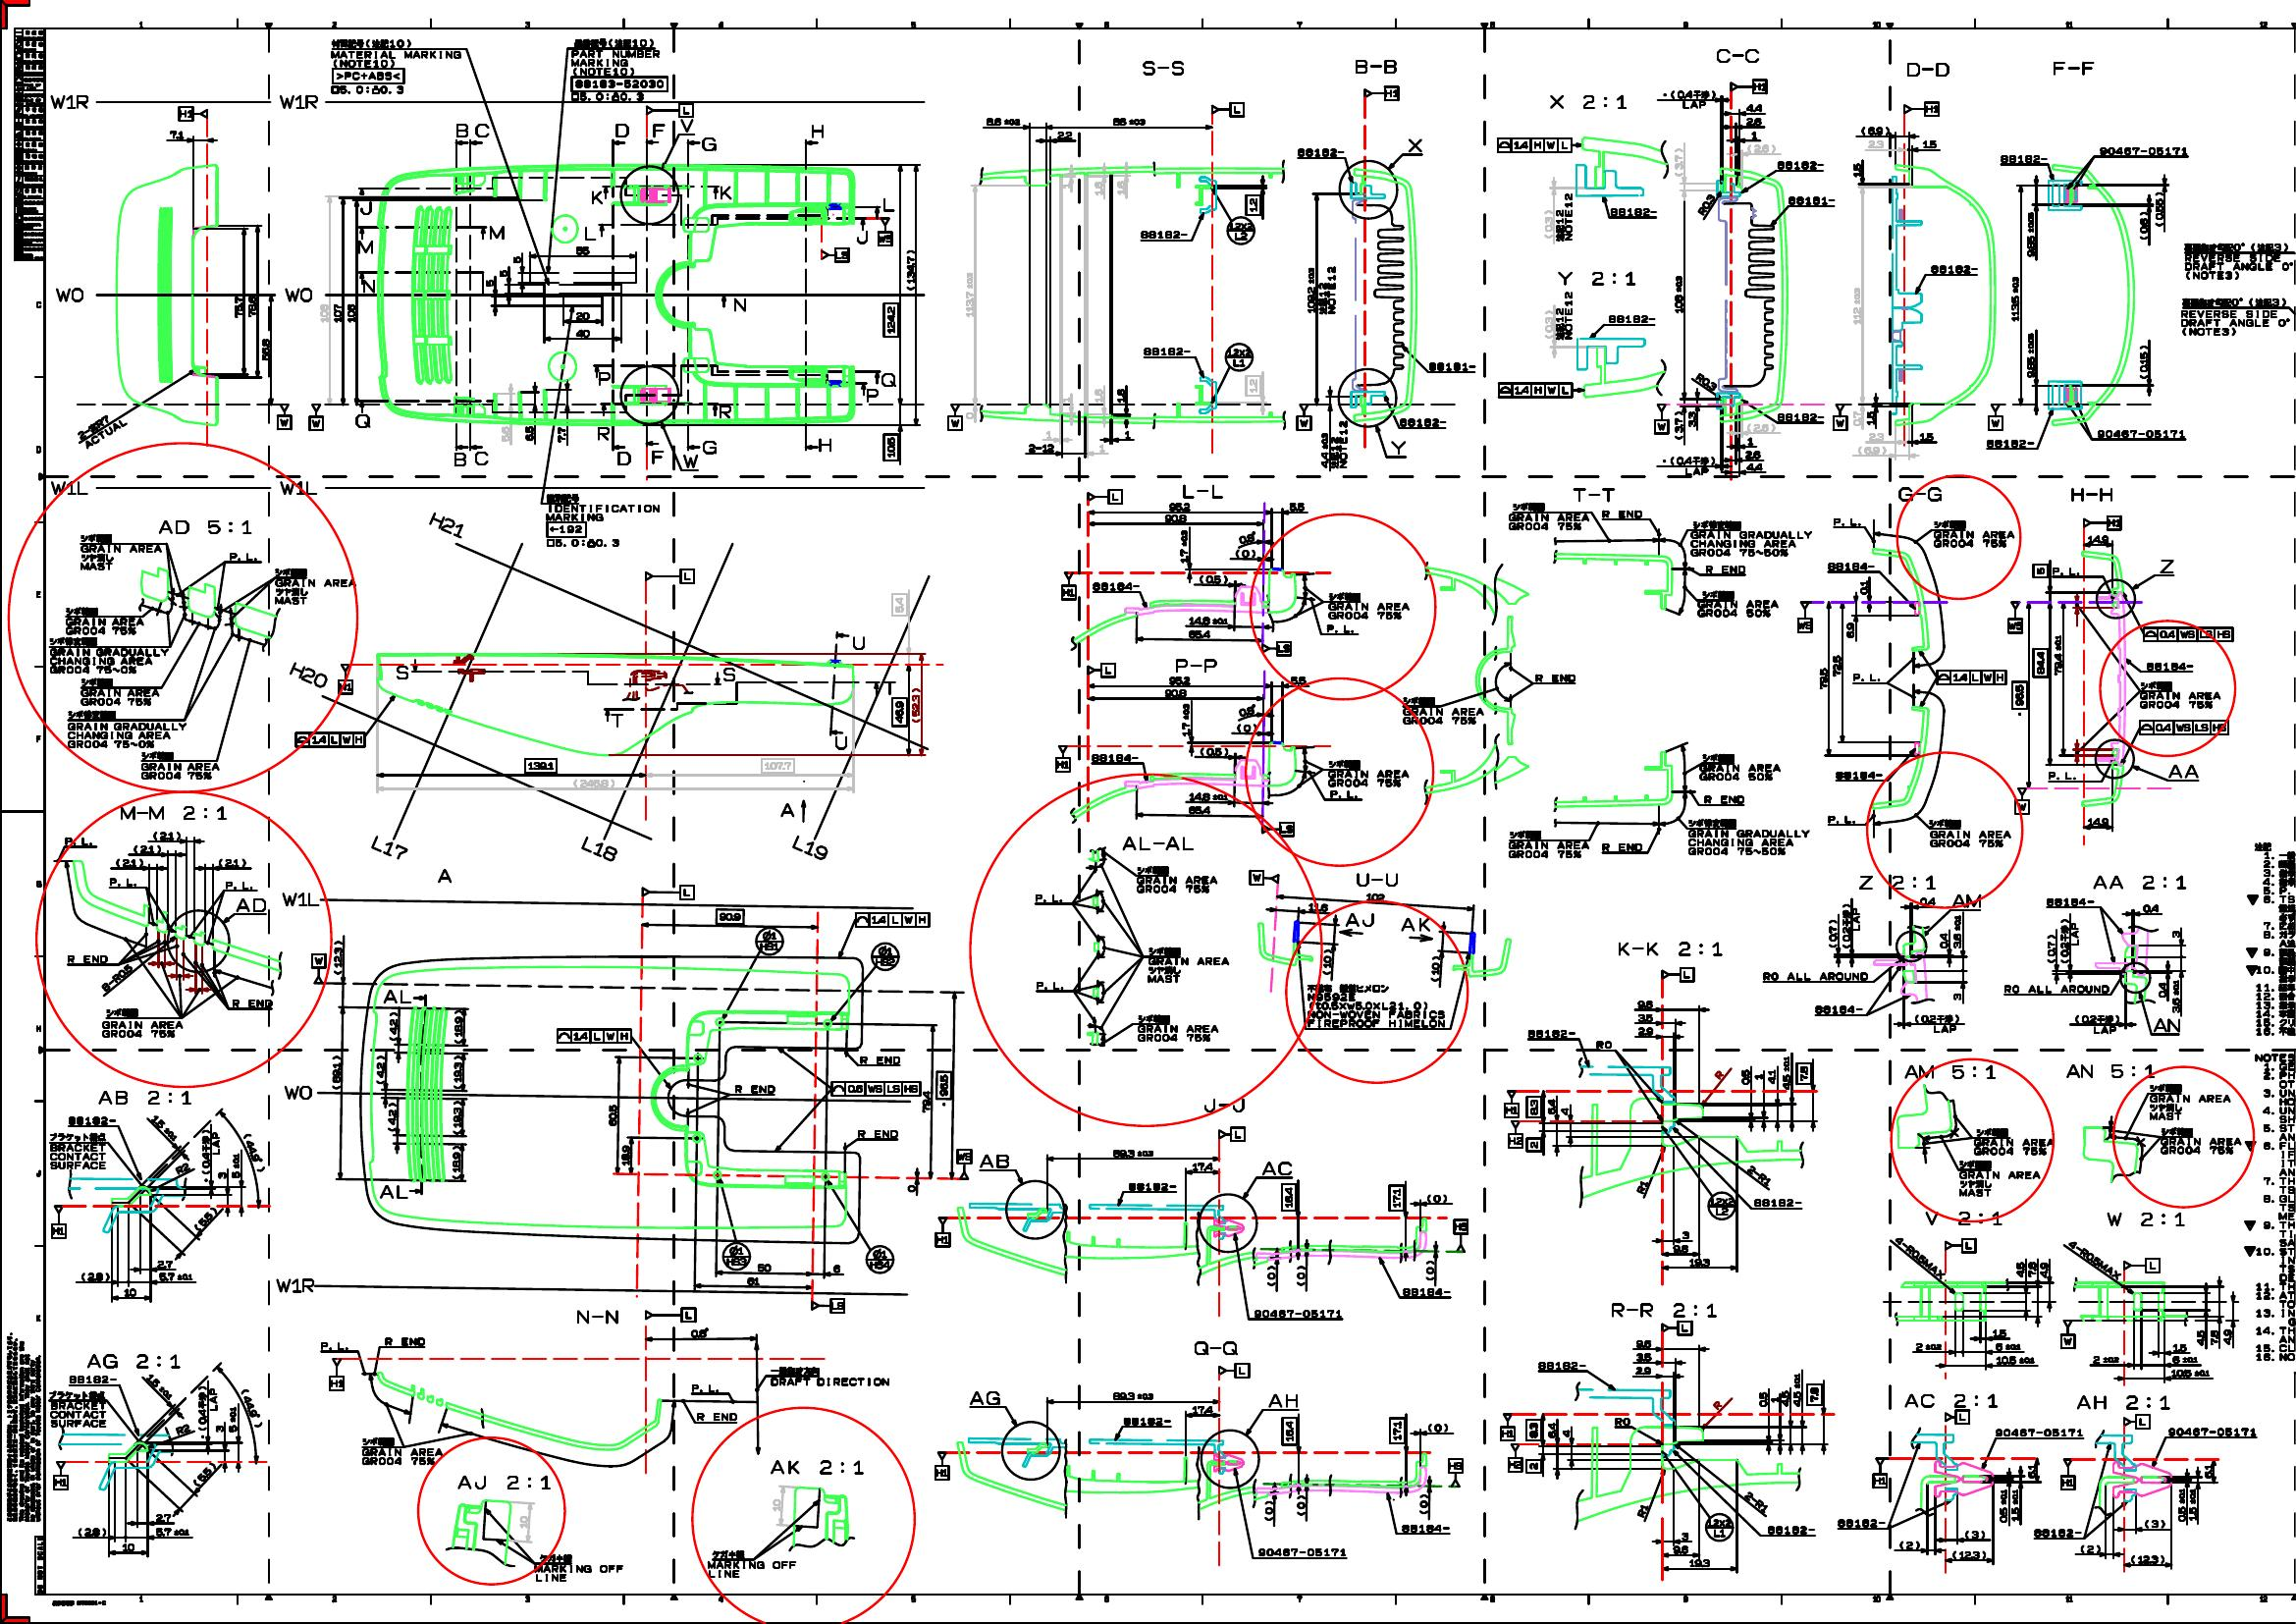anntotation_text: (330, 39, 462, 97), (5, 1332, 40, 1522), (546, 492, 661, 550), (1305, 982, 1446, 1028), (569, 37, 666, 102), (67, 708, 188, 749), (47, 636, 170, 675), (1688, 819, 1809, 858), (1690, 520, 1813, 557), (2182, 297, 2291, 337), (2184, 243, 2294, 281), (274, 566, 357, 606), (79, 533, 163, 571), (2148, 1083, 2233, 1121), (1147, 946, 1230, 984), (1959, 1160, 2041, 1197), (1927, 817, 2013, 849), (1326, 591, 1412, 620), (769, 1366, 891, 1387), (1137, 1014, 1221, 1044), (706, 1550, 796, 1578), (360, 1436, 444, 1466), (1699, 752, 1781, 782), (1507, 501, 1590, 531), (2159, 1127, 2242, 1156), (1402, 696, 1483, 726), (102, 1007, 183, 1037), (141, 750, 220, 780), (81, 677, 160, 707), (534, 1554, 624, 1580), (1507, 830, 1590, 858), (1326, 759, 1409, 787), (1697, 589, 1780, 617), (1973, 1128, 2055, 1156), (1932, 520, 2015, 548), (2140, 680, 2220, 708), (1137, 865, 1217, 893), (63, 606, 144, 634), (47, 1132, 105, 1169), (47, 1390, 105, 1427), (458, 1471, 552, 1492), (1616, 940, 1723, 958), (1609, 1301, 1716, 1318), (2075, 1392, 2170, 1411), (119, 805, 228, 821), (2092, 874, 2187, 891), (1904, 1065, 1997, 1083), (2066, 1062, 2155, 1079), (1556, 269, 1637, 288), (768, 1459, 866, 1475), (156, 518, 251, 534), (97, 1090, 191, 1106), (86, 1353, 181, 1369), (1903, 1392, 1997, 1408), (1549, 93, 1627, 112), (2138, 719, 2227, 735), (2105, 1211, 2184, 1229), (1924, 1209, 2003, 1227), (1859, 874, 1936, 891), (829, 1081, 921, 1095), (2141, 627, 2233, 642), (1660, 455, 1715, 478), (1497, 137, 1572, 153), (197, 1385, 218, 1441), (1121, 835, 1195, 851), (2003, 982, 2110, 993), (1762, 970, 1867, 981), (1936, 670, 2006, 685), (295, 731, 365, 747), (1660, 90, 1716, 109), (77, 418, 128, 439), (856, 912, 929, 926), (557, 1028, 631, 1042), (1498, 383, 1572, 397), (2059, 917, 2080, 965), (1555, 290, 1574, 341), (1555, 192, 1574, 243), (1256, 1547, 1347, 1557), (1318, 265, 1337, 315), (2096, 429, 2185, 439), (2099, 146, 2189, 156), (1224, 214, 1256, 244), (1224, 341, 1254, 373), (1253, 1308, 1342, 1318), (1994, 1427, 2083, 1438), (2168, 1425, 2257, 1436), (1915, 1012, 1959, 1033), (202, 1128, 220, 1181), (754, 926, 783, 956), (864, 1244, 894, 1274), (1706, 1190, 1736, 1220), (1704, 1512, 1734, 1541), (2075, 1014, 2120, 1033), (641, 884, 696, 900), (1841, 903, 1860, 947), (871, 942, 899, 972), (1330, 420, 1347, 468), (2050, 60, 2096, 77), (2062, 1253, 2127, 1265), (369, 838, 409, 858), (2068, 487, 2115, 503), (1353, 58, 1400, 74), (722, 1243, 750, 1269), (278, 93, 320, 111), (33, 1536, 46, 1596), (1715, 47, 1760, 63), (1140, 60, 1186, 76), (574, 1309, 620, 1325), (1897, 487, 1943, 503), (1572, 487, 1618, 503), (1193, 1339, 1238, 1355), (49, 93, 90, 111), (288, 666, 329, 684), (580, 840, 620, 858), (791, 838, 831, 856), (1906, 62, 1950, 77), (1173, 657, 1217, 673), (1180, 483, 1224, 499), (646, 1308, 696, 1322), (645, 569, 694, 584), (1888, 1253, 1953, 1264), (427, 517, 466, 534), (1203, 1098, 1245, 1114), (646, 102, 694, 116), (1354, 872, 1400, 886), (274, 1278, 314, 1294), (1730, 77, 1765, 95), (49, 480, 88, 496), (281, 891, 320, 907), (1776, 158, 1825, 170), (1398, 417, 1448, 429), (51, 1598, 107, 1608), (1788, 195, 1836, 207), (2083, 515, 2120, 531), (279, 480, 316, 496), (1428, 360, 1476, 373), (1087, 489, 1123, 504), (2006, 601, 2024, 633), (1363, 86, 1398, 102), (2124, 1258, 2159, 1274), (1985, 438, 2036, 448), (1126, 1181, 1177, 1192), (1212, 102, 1245, 118), (1797, 599, 1813, 633), (1660, 967, 1693, 982), (1943, 1236, 1976, 1251), (933, 1450, 950, 1480), (2059, 1459, 2076, 1489), (1999, 153, 2048, 163), (1903, 102, 1939, 116), (1091, 580, 1140, 591), (1142, 346, 1191, 357), (1400, 1522, 1449, 1533), (1815, 1004, 1864, 1014), (1834, 770, 1883, 780), (1091, 752, 1140, 763), (2045, 896, 2094, 907), (1765, 1524, 1815, 1534), (1931, 264, 1978, 274), (1140, 228, 1188, 239), (1400, 916, 1432, 932), (1453, 1220, 1469, 1251), (978, 1153, 1010, 1169), (381, 988, 413, 1004), (2147, 661, 2194, 671), (1871, 1457, 1887, 1489), (1261, 823, 1293, 838), (1607, 313, 1655, 323), (49, 1206, 65, 1237), (329, 1359, 344, 1390), (1217, 1362, 1249, 1378), (2034, 1527, 2082, 1538), (1059, 571, 1075, 601), (1448, 1457, 1463, 1487), (1952, 893, 1982, 909), (1346, 910, 1375, 926), (956, 1149, 971, 1179), (933, 1216, 949, 1246), (177, 105, 207, 121), (283, 286, 313, 302), (1249, 870, 1279, 886), (337, 664, 353, 694), (311, 954, 327, 984), (283, 1084, 313, 1100), (2152, 1018, 2182, 1033), (968, 1390, 1001, 1404), (812, 1299, 845, 1313), (857, 1055, 901, 1065), (1702, 794, 1746, 805), (1295, 404, 1312, 431), (383, 1336, 427, 1346), (1751, 1199, 1802, 1207), (1537, 1360, 1588, 1369), (947, 402, 963, 431), (1261, 1160, 1293, 1174), (379, 1185, 408, 1200), (696, 1411, 738, 1422), (2168, 763, 2199, 777), (56, 286, 84, 302), (1655, 402, 1669, 434), (1600, 508, 1643, 518), (1704, 564, 1746, 575), (53, 1461, 69, 1489), (1507, 1120, 1523, 1148), (2124, 1413, 2152, 1429), (1267, 1394, 1298, 1408), (1498, 1413, 1514, 1441), (1660, 1320, 1692, 1334), (1123, 1417, 1172, 1425), (1402, 1287, 1451, 1295), (67, 1116, 116, 1125), (1527, 1028, 1576, 1037), (878, 216, 892, 246), (235, 898, 265, 912), (1987, 404, 2003, 431), (1219, 1127, 1245, 1142), (2015, 787, 2031, 814), (307, 404, 323, 431), (1054, 745, 1070, 772), (1296, 148, 1344, 156), (1827, 562, 1874, 571), (1776, 413, 1823, 422), (1832, 404, 1848, 431), (1609, 207, 1657, 216), (69, 1374, 116, 1383), (1504, 1091, 1520, 1118), (1507, 1445, 1523, 1471), (1838, 1519, 1885, 1527), (1087, 663, 1116, 677), (820, 248, 848, 262), (1263, 642, 1291, 656), (856, 1128, 898, 1137), (734, 1084, 776, 1093), (1600, 842, 1643, 851), (1534, 673, 1576, 682), (67, 954, 109, 963), (230, 998, 272, 1007), (2061, 1320, 2075, 1346), (1945, 1410, 1969, 1424), (1825, 814, 1857, 824), (1832, 517, 1864, 527), (2047, 770, 2076, 780), (1325, 624, 1354, 634), (228, 550, 258, 561), (63, 835, 93, 845), (107, 875, 137, 886), (863, 387, 880, 404), (278, 404, 290, 429), (1035, 981, 1063, 991), (731, 297, 748, 313), (615, 450, 632, 466), (473, 450, 488, 468), (355, 413, 371, 431), (360, 278, 376, 295), (357, 237, 372, 255), (488, 223, 504, 241), (717, 185, 733, 202), (680, 118, 696, 135), (613, 121, 629, 139), (882, 680, 898, 698), (850, 634, 866, 652), (1328, 789, 1360, 798), (1390, 439, 1407, 455), (436, 868, 453, 884), (223, 881, 253, 889), (880, 197, 896, 213), (808, 123, 824, 139), (854, 230, 870, 246), (880, 373, 896, 388), (817, 438, 833, 453), (717, 404, 733, 420), (703, 439, 718, 455), (682, 452, 697, 468), (648, 448, 664, 464), (596, 371, 611, 387), (596, 425, 611, 441), (453, 450, 469, 466), (358, 202, 374, 218), (581, 225, 597, 241), (588, 190, 604, 206), (701, 135, 717, 151), (650, 121, 666, 137), (474, 123, 490, 139), (393, 664, 409, 680), (780, 801, 796, 817), (833, 735, 848, 750), (608, 714, 624, 729), (720, 666, 736, 682), (2159, 557, 2175, 573), (455, 121, 471, 137), (1407, 137, 1423, 153), (690, 1383, 718, 1392), (1852, 673, 1880, 682), (2052, 566, 2080, 575), (1035, 893, 1063, 902), (320, 1341, 348, 1350)
dimension_text: (882, 302, 898, 337), (523, 758, 557, 773), (761, 758, 794, 773), (2010, 274, 2020, 322), (248, 1132, 260, 1172), (882, 432, 899, 460), (715, 909, 745, 924), (571, 777, 615, 787), (246, 1387, 256, 1429), (891, 698, 906, 726), (2032, 649, 2048, 677), (1112, 1390, 1154, 1401), (1281, 1183, 1296, 1211), (141, 1380, 176, 1392), (2025, 330, 2034, 380), (936, 1070, 950, 1100), (2011, 682, 2027, 708), (1390, 1417, 1405, 1443), (1996, 1355, 2034, 1366), (964, 271, 973, 316), (1307, 267, 1316, 313), (2025, 211, 2034, 257), (891, 592, 908, 615), (1282, 1417, 1296, 1445), (453, 1009, 464, 1046), (984, 116, 1021, 127), (1189, 791, 1226, 801), (1952, 914, 1962, 949), (1795, 1063, 1813, 1084), (332, 940, 343, 975), (330, 1055, 341, 1090), (158, 1271, 193, 1281), (155, 1526, 190, 1536), (905, 248, 913, 290), (1112, 116, 1147, 127), (1179, 529, 1189, 564), (1188, 615, 1230, 624), (1997, 1487, 2008, 1522), (1390, 1185, 1404, 1211), (1112, 1149, 1154, 1158), (132, 844, 162, 856), (1245, 374, 1261, 397), (2170, 1369, 2210, 1378), (2054, 634, 2062, 675), (2131, 1554, 2164, 1564), (148, 1121, 181, 1132), (1180, 703, 1191, 736), (1674, 274, 1683, 313), (1525, 1097, 1541, 1118), (374, 1053, 385, 1084), (79, 1271, 111, 1281), (1672, 146, 1683, 178), (1806, 1383, 1822, 1404), (453, 1053, 462, 1090), (1852, 286, 1860, 323), (912, 687, 921, 724), (2171, 977, 2180, 1014), (1544, 309, 1555, 339), (1860, 125, 1890, 135), (1743, 1496, 1773, 1506), (2140, 344, 2148, 380), (1781, 1055, 1790, 1090), (2189, 1487, 2198, 1522), (2177, 1487, 2185, 1522), (451, 1144, 460, 1179), (1321, 432, 1330, 468), (2155, 192, 2164, 227), (2010, 1487, 2018, 1522), (1792, 1373, 1801, 1408), (1746, 1171, 1774, 1181), (1542, 209, 1553, 237), (1692, 199, 1720, 209), (1527, 1418, 1541, 1439), (453, 1100, 462, 1134), (1952, 1550, 1985, 1559), (114, 858, 146, 866), (153, 830, 179, 840), (230, 1153, 241, 1179), (193, 1214, 220, 1225), (1028, 443, 1054, 453), (1245, 195, 1260, 214), (1827, 917, 1836, 947), (216, 858, 246, 866), (388, 1102, 397, 1132), (388, 1011, 397, 1040), (1746, 422, 1776, 431), (1746, 144, 1776, 153), (1198, 575, 1228, 584), (1200, 747, 1230, 756), (2047, 933, 2055, 963), (1166, 501, 1191, 511), (1163, 513, 1188, 524), (1430, 956, 1440, 981), (921, 1090, 931, 1114), (1525, 1137, 1542, 1151), (1994, 1343, 2022, 1352), (190, 1469, 218, 1478), (77, 1527, 105, 1536), (1674, 411, 1683, 439), (2140, 211, 2148, 239), (1688, 1257, 1711, 1267), (606, 1102, 617, 1125), (2087, 816, 2110, 826), (1295, 1494, 1305, 1517), (1426, 1422, 1449, 1432), (620, 1142, 631, 1165), (1915, 1341, 1941, 1350), (2171, 1355, 2198, 1364), (2092, 1355, 2119, 1364), (228, 1406, 237, 1432), (1323, 949, 1332, 975), (1688, 1557, 1709, 1568), (1525, 1459, 1541, 1473), (1418, 1492, 1428, 1513), (1693, 378, 1718, 387), (1238, 531, 1256, 543), (1857, 446, 1887, 453), (1593, 1039, 1613, 1049), (2222, 1327, 2233, 1346), (1365, 891, 1384, 902), (1263, 1501, 1274, 1520), (2143, 1519, 2166, 1527), (1233, 548, 1256, 557), (1188, 629, 1210, 638), (1165, 689, 1188, 698), (1168, 675, 1191, 684), (1188, 805, 1210, 814), (1818, 666, 1827, 689), (1832, 654, 1841, 677), (1191, 1404, 1214, 1413), (1267, 1264, 1275, 1287), (1191, 1162, 1214, 1171), (2032, 564, 2048, 576), (1634, 1504, 1650, 1517), (248, 295, 256, 316), (1918, 895, 1936, 905), (1635, 998, 1653, 1009), (2080, 1545, 2101, 1554), (690, 1327, 708, 1338), (1238, 705, 1256, 715), (1307, 902, 1328, 910), (2087, 534, 2108, 543), (1964, 1529, 1985, 1538), (1899, 1541, 1920, 1550), (1634, 1366, 1651, 1376), (1634, 1338, 1651, 1348), (1425, 1258, 1433, 1280), (1426, 1193, 1448, 1202), (1296, 1264, 1305, 1285), (262, 337, 269, 362), (346, 304, 355, 323), (332, 304, 341, 323), (320, 304, 329, 323), (1237, 722, 1256, 731), (1781, 1388, 1790, 1408), (1634, 1183, 1650, 1193), (2015, 1260, 2025, 1276), (2203, 1462, 2213, 1478), (156, 1258, 172, 1269), (174, 1164, 190, 1174), (174, 1424, 190, 1434), (499, 425, 509, 441), (1093, 181, 1103, 197), (1746, 116, 1762, 127), (169, 128, 184, 139), (1635, 1352, 1651, 1362), (1939, 932, 1948, 949), (1767, 1067, 1776, 1084), (1635, 1014, 1653, 1023), (1672, 1244, 1690, 1253), (2027, 1260, 2036, 1278), (2196, 1329, 2205, 1346), (2171, 1343, 2189, 1352), (557, 425, 566, 443), (1688, 411, 1697, 429), (1746, 462, 1764, 471), (1746, 104, 1764, 112), (1288, 501, 1305, 510), (1289, 675, 1307, 684), (1846, 620, 1855, 638), (2157, 981, 2166, 998), (2141, 903, 2159, 912), (1672, 1545, 1690, 1554), (1614, 1417, 1632, 1425), (1093, 388, 1103, 402), (1922, 139, 1936, 149), (234, 297, 241, 318), (1741, 1069, 1750, 1084), (1637, 1026, 1653, 1035), (1548, 1098, 1556, 1114), (1992, 1329, 2008, 1338), (2040, 1262, 2048, 1278), (2210, 1329, 2219, 1345), (2027, 1462, 2036, 1478), (155, 1513, 170, 1522), (574, 246, 590, 255), (574, 311, 590, 320), (574, 329, 590, 337), (523, 425, 532, 441), (1058, 130, 1073, 139), (1116, 179, 1124, 195), (1116, 387, 1124, 402), (1744, 450, 1760, 459), (1918, 432, 1934, 441), (1867, 432, 1883, 441), (1852, 411, 1860, 427), (1867, 139, 1883, 148), (1852, 162, 1860, 178), (1859, 580, 1867, 596), (1758, 1392, 1767, 1408), (1548, 1422, 1556, 1438), (757, 1262, 771, 1271), (747, 1276, 761, 1285), (121, 1543, 135, 1552), (520, 1515, 529, 1529), (771, 1497, 780, 1512), (1866, 411, 1874, 425), (1713, 1070, 1723, 1081), (123, 1288, 137, 1295), (833, 1262, 841, 1272), (216, 1171, 227, 1179), (1746, 436, 1755, 446), (2171, 928, 2180, 939), (1711, 1401, 1722, 1410), (513, 255, 522, 264), (1753, 1072, 1762, 1081), (1560, 1107, 1569, 1116), (214, 1424, 223, 1432), (964, 411, 973, 420), (1123, 431, 1131, 439), (1098, 445, 1107, 453), (1750, 130, 1758, 139), (1681, 1531, 1690, 1540), (1562, 1429, 1570, 1438), (906, 1185, 915, 1193), (499, 269, 506, 278), (485, 279, 494, 286), (1952, 993, 1960, 1000), (1681, 1230, 1690, 1237), (1045, 431, 1052, 439), (1063, 181, 1070, 190), (1063, 395, 1070, 404), (1771, 1396, 1778, 1404)
object: (355, 951, 863, 1246), (374, 162, 857, 424), (980, 163, 1286, 424), (1425, 536, 1688, 826), (376, 650, 854, 758), (956, 1200, 1428, 1276), (956, 1436, 1430, 1510), (1578, 1062, 1806, 1199), (1574, 1385, 1801, 1522), (365, 1371, 675, 1468), (112, 160, 220, 427), (63, 859, 281, 990), (1892, 163, 1997, 429), (2047, 162, 2134, 429), (1869, 531, 1946, 830), (1715, 167, 1790, 424), (1068, 743, 1309, 821), (1073, 568, 1307, 647), (1349, 169, 1418, 424), (1256, 919, 1513, 977), (2080, 548, 2126, 808), (139, 566, 276, 649), (67, 1176, 186, 1234), (56, 1432, 170, 1490), (1910, 1432, 1994, 1510), (2094, 1434, 2173, 1512), (1574, 135, 1667, 197), (1574, 336, 1665, 397), (1894, 1280, 2011, 1322), (2075, 1280, 2189, 1322), (1873, 924, 1929, 1000), (450, 1497, 511, 1566), (2094, 926, 2148, 1002), (1897, 1084, 1959, 1149), (791, 1485, 850, 1545), (1087, 847, 1105, 1046), (2082, 1125, 2143, 1179)
title_block: (14, 28, 46, 262)
